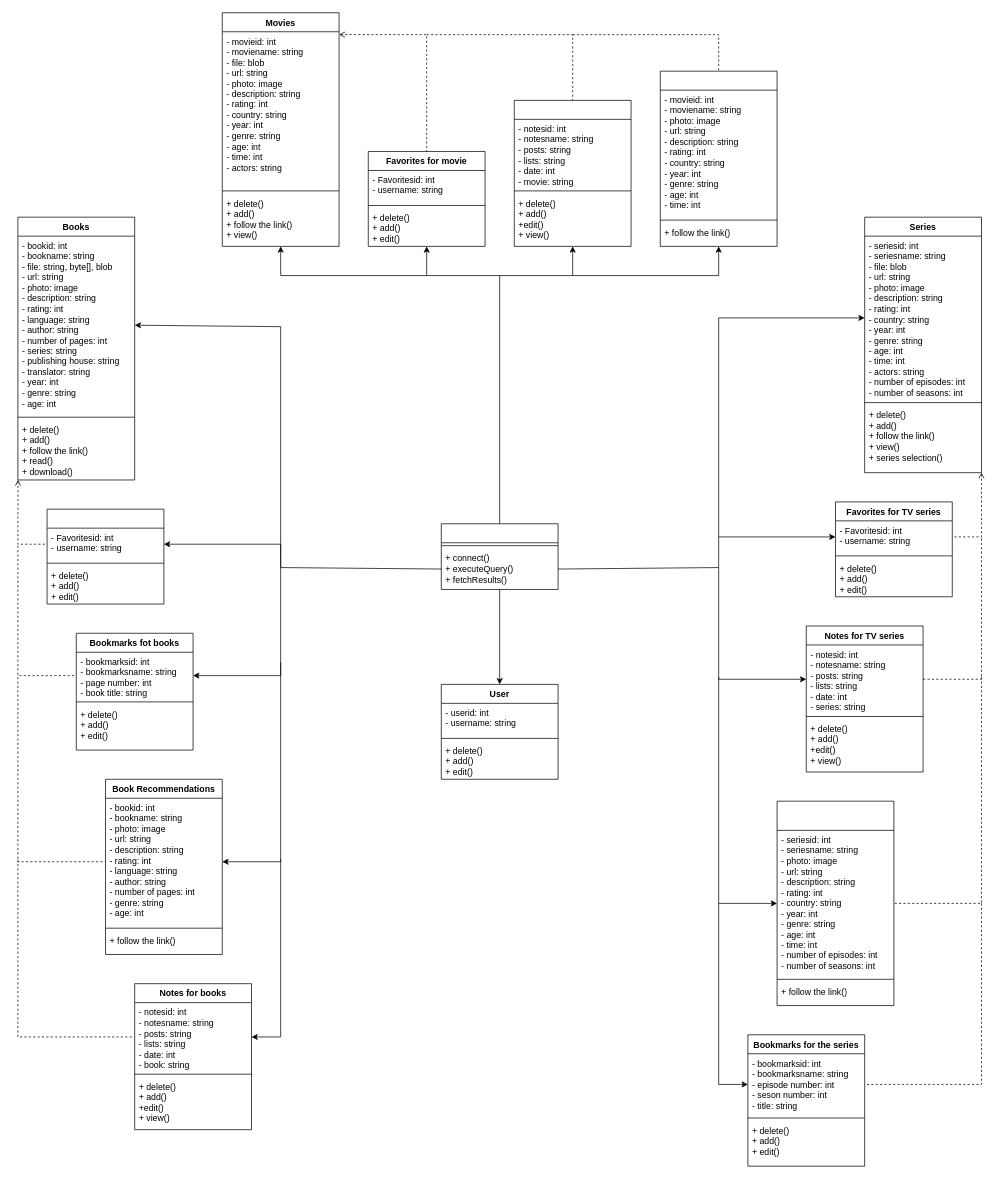
This 1000x1181 diagram has some shape labels left out. Here are the shapes that lost their labels. From the top down, the box of each, then its label:
(514, 100, 631, 246): Notes for movies
(660, 70, 777, 246): Movie Recommendations
(46, 508, 164, 604): Favorites for books
(441, 523, 558, 589): Database
(776, 800, 894, 1006): TV Series Recommendations
